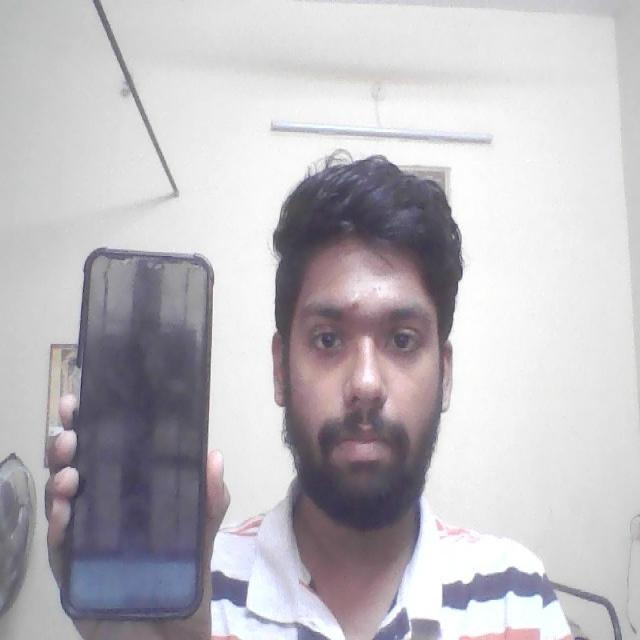Mobile: (52, 236, 220, 623)
